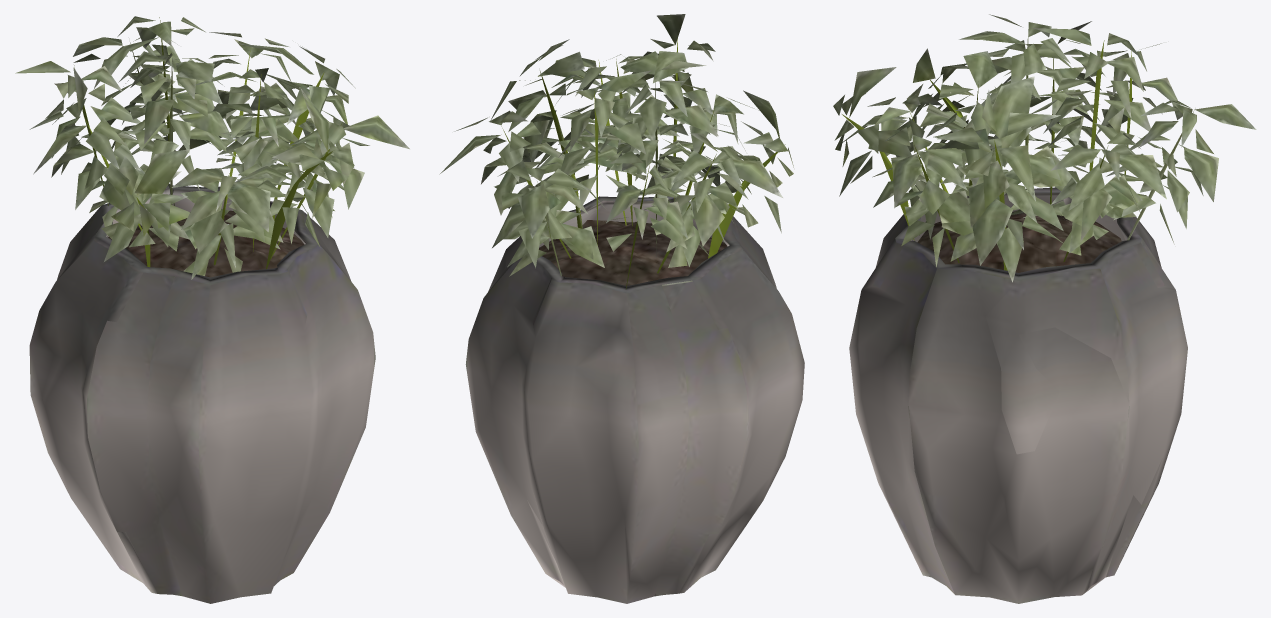
The model's file is Plant0016.obj.
3 renders of one model, left to right at view 1: azimuth 30°, elevation 25°; view 2: azimuth 150°, elevation 25°; view 3: azimuth 270°, elevation 25°, orthographic. The views are drawn at different scales.
Size of the model in its own units: 0.545 by 0.868 by 0.628.
Materials: 1 (1 with a texture image).
